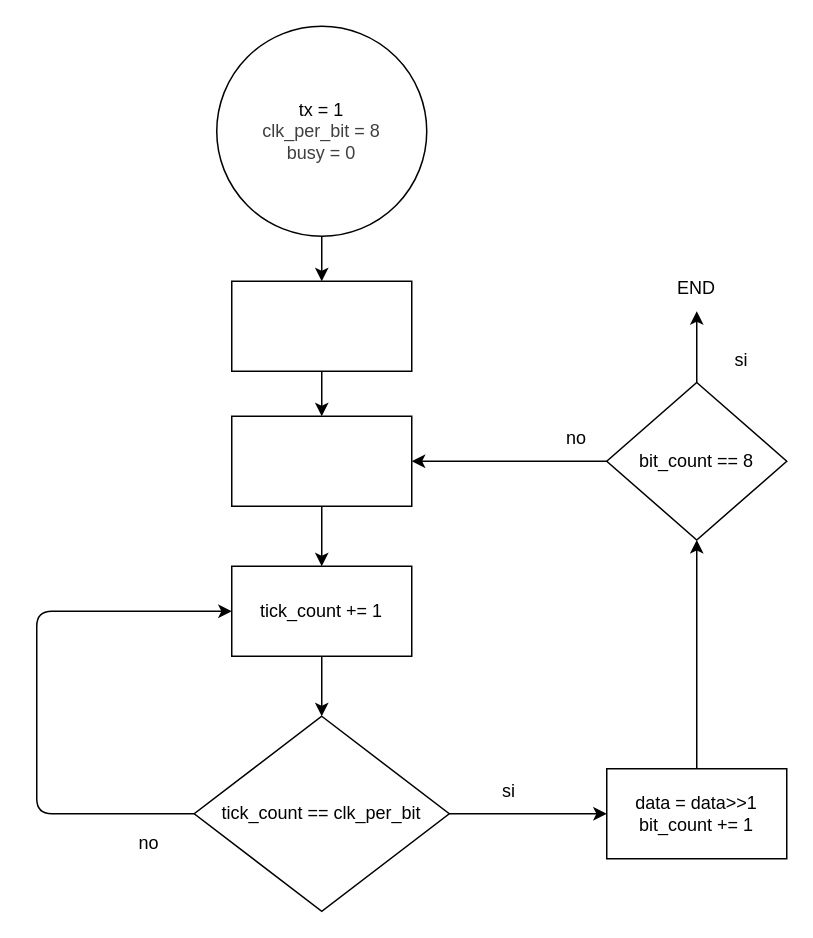
Image size: 813x938. Some labels were removed from this diagram. The centre of each missing label's shape, as x and y in pixels:
"data = Data_in bit_count = 0 tick_count = 0" goes at (321,325).
"tx = data[0]" goes at (321,460).
